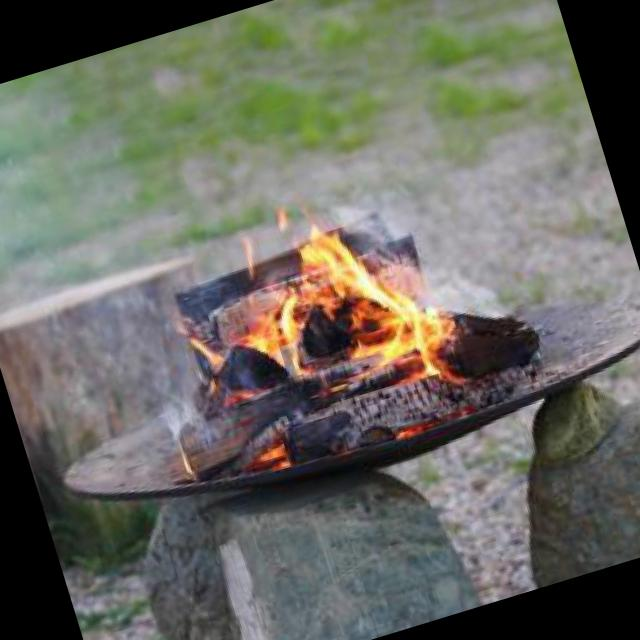fire: (166, 208, 441, 451)
smoke: (0, 44, 244, 491), (368, 219, 518, 357)
